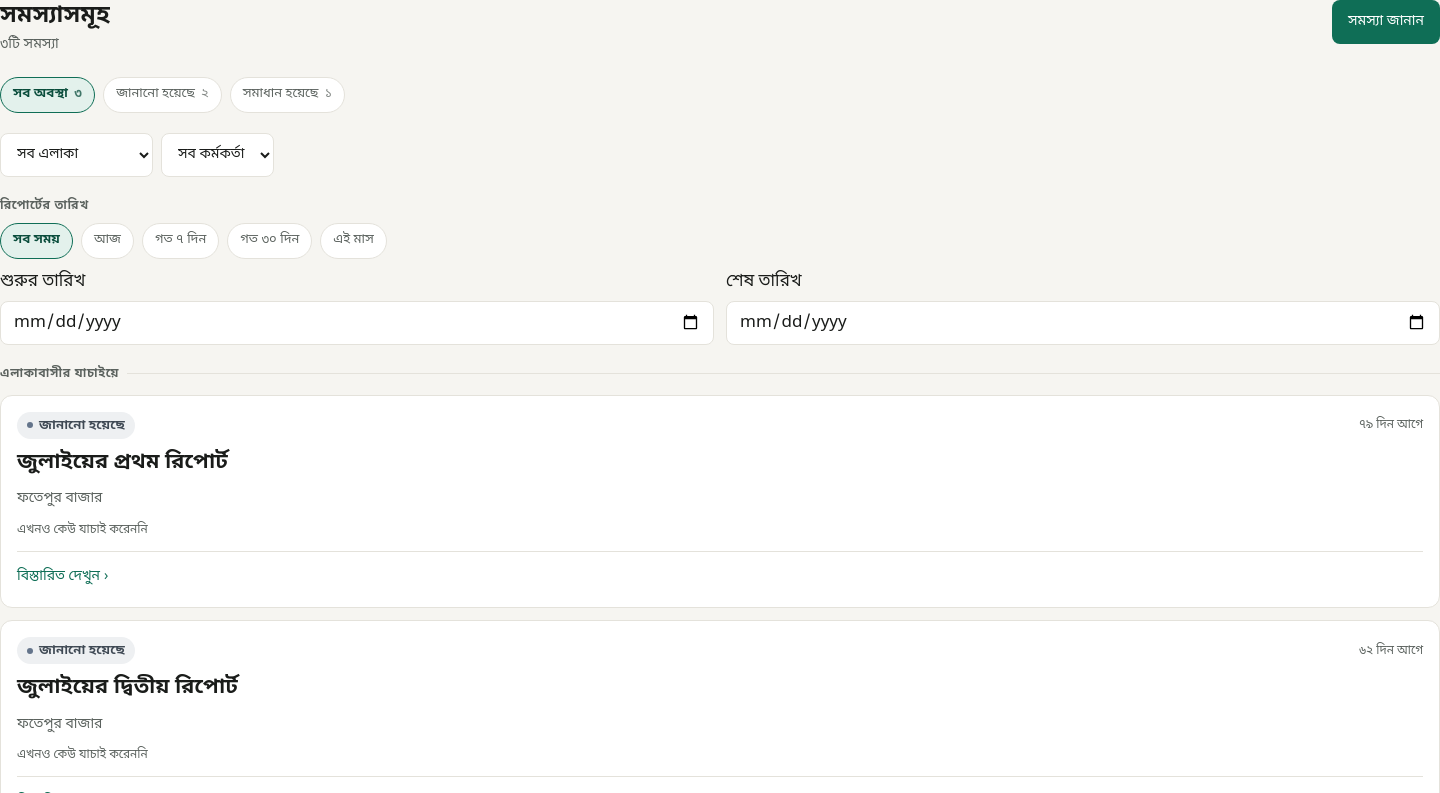
Test: ProblemFeed date filter › says the span is empty rather than "no reports yet"
Expected: the heading "জুলাইয়ের প্রথম রিপোর্ট" is shown, [17, 449, 228, 477]
Type "2026-01-01" into the date field labelled "শুরুর তারিখ" at (357, 322), box [0, 300, 714, 344]
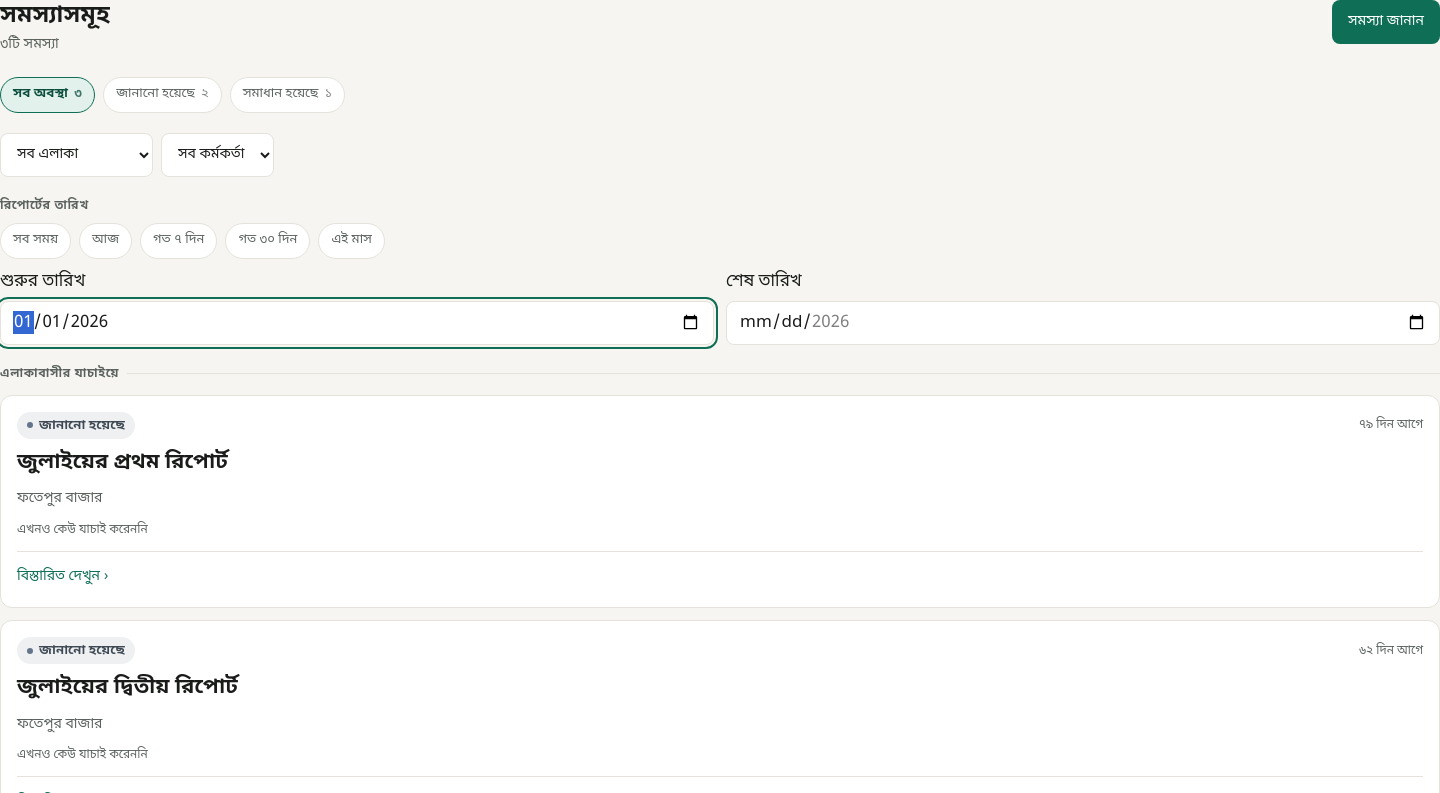
Type "2026-01-31" into the date field labelled "শেষ তারিখ" at (1083, 322), box [726, 300, 1439, 344]
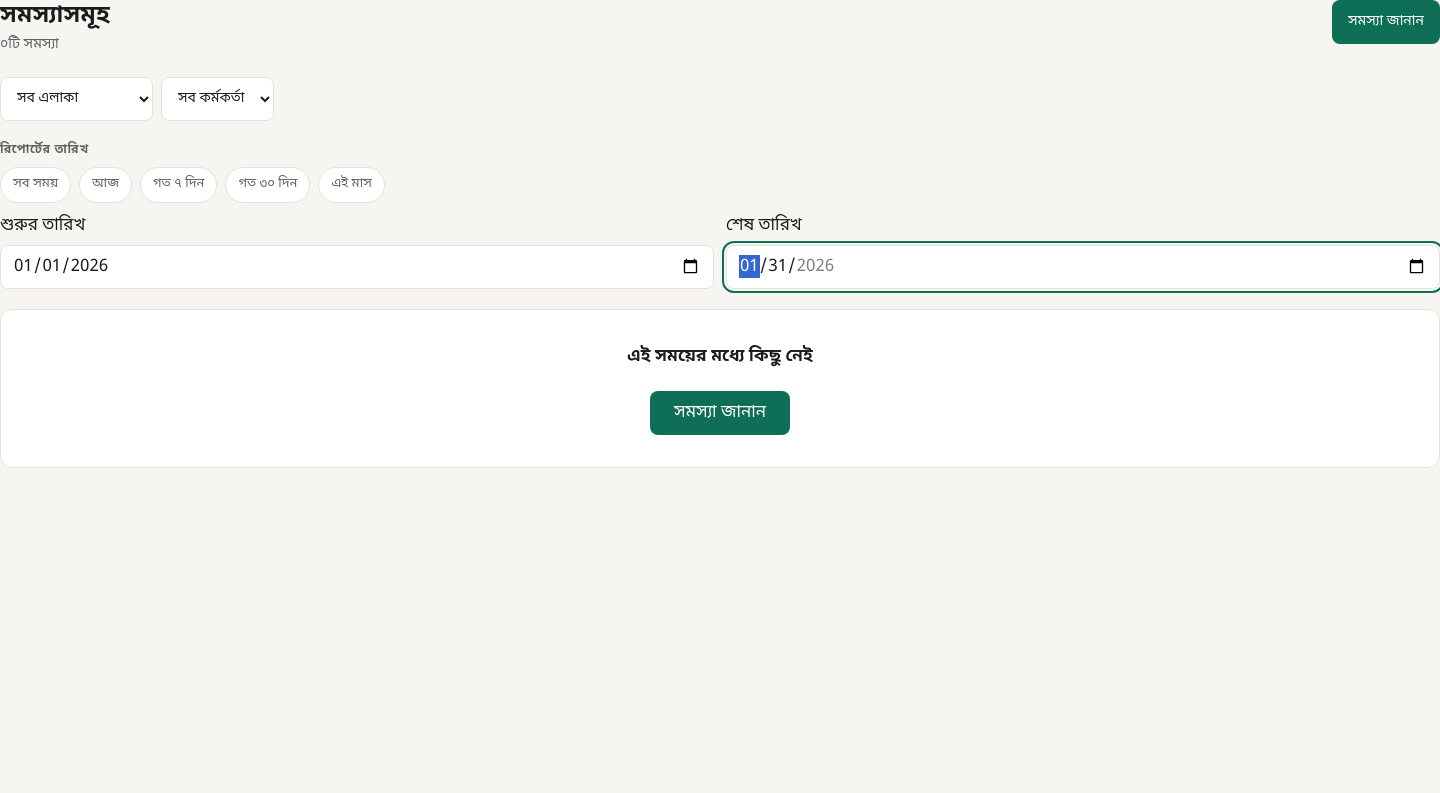
Result: the text "এই সময়ের মধ্যে কিছু নেই" is shown at [627, 342, 813, 371]
